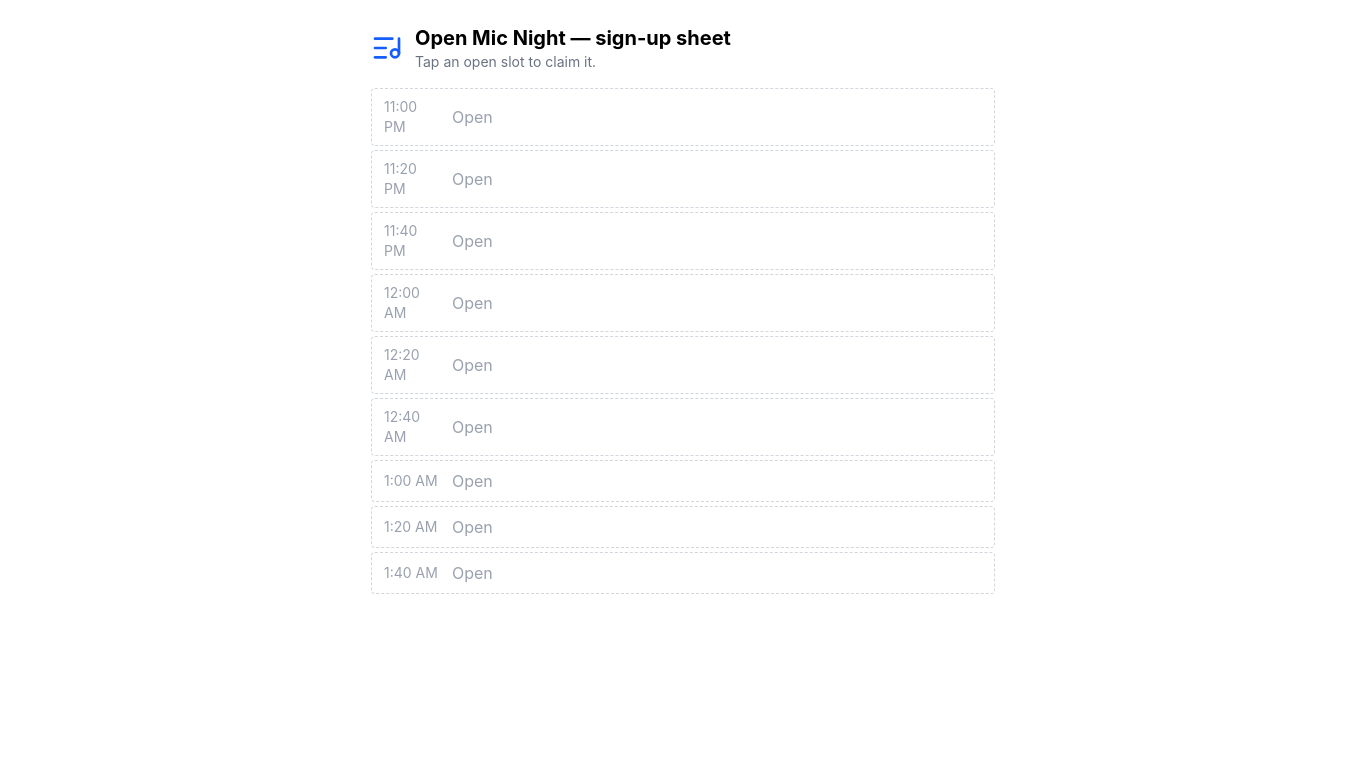
Test case: <SignupSheet /> › keeps the modal and its error visible after a refresh shows the slot as taken
Click the button with aria-label "Sign up for the" at (401,106), box [371,88,995,146]
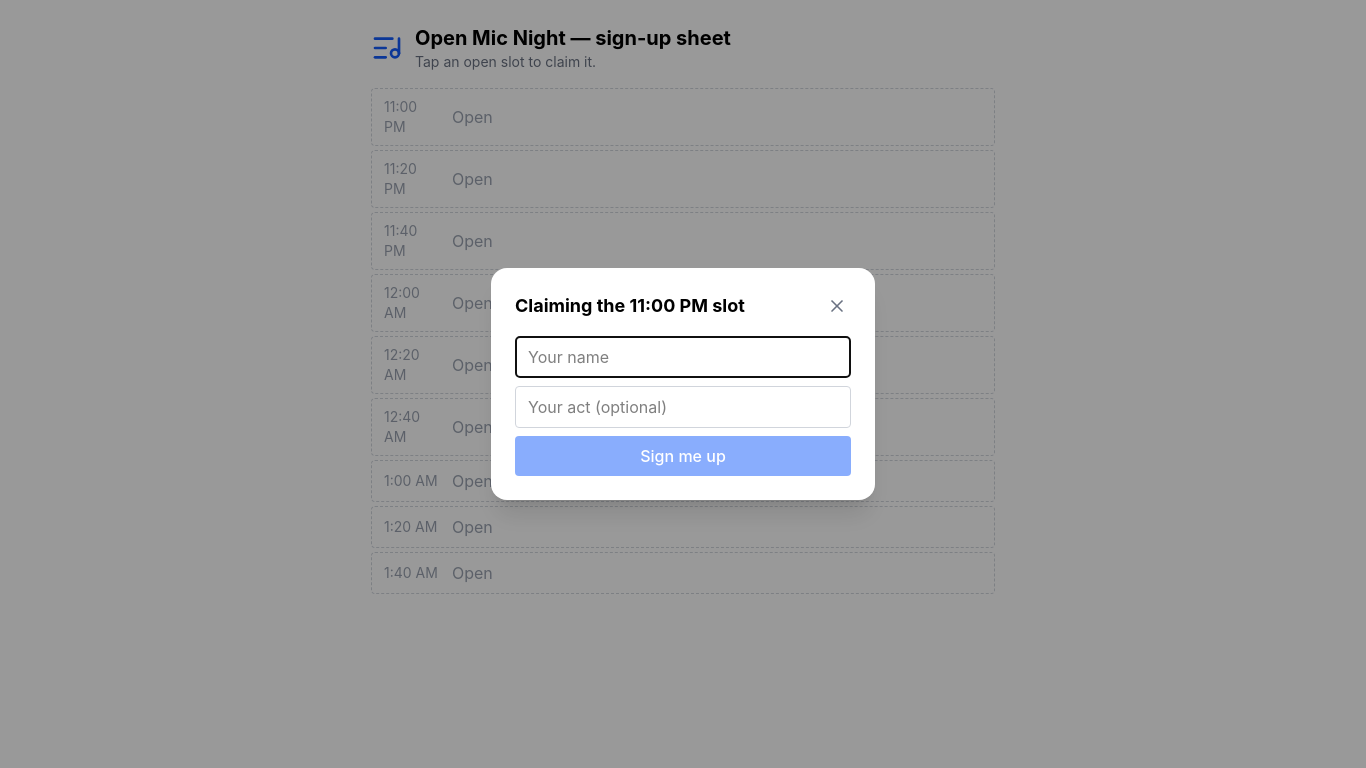
Type "Brandon" into the field labelled "Your name" at (683,357), box [515,336,851,378]
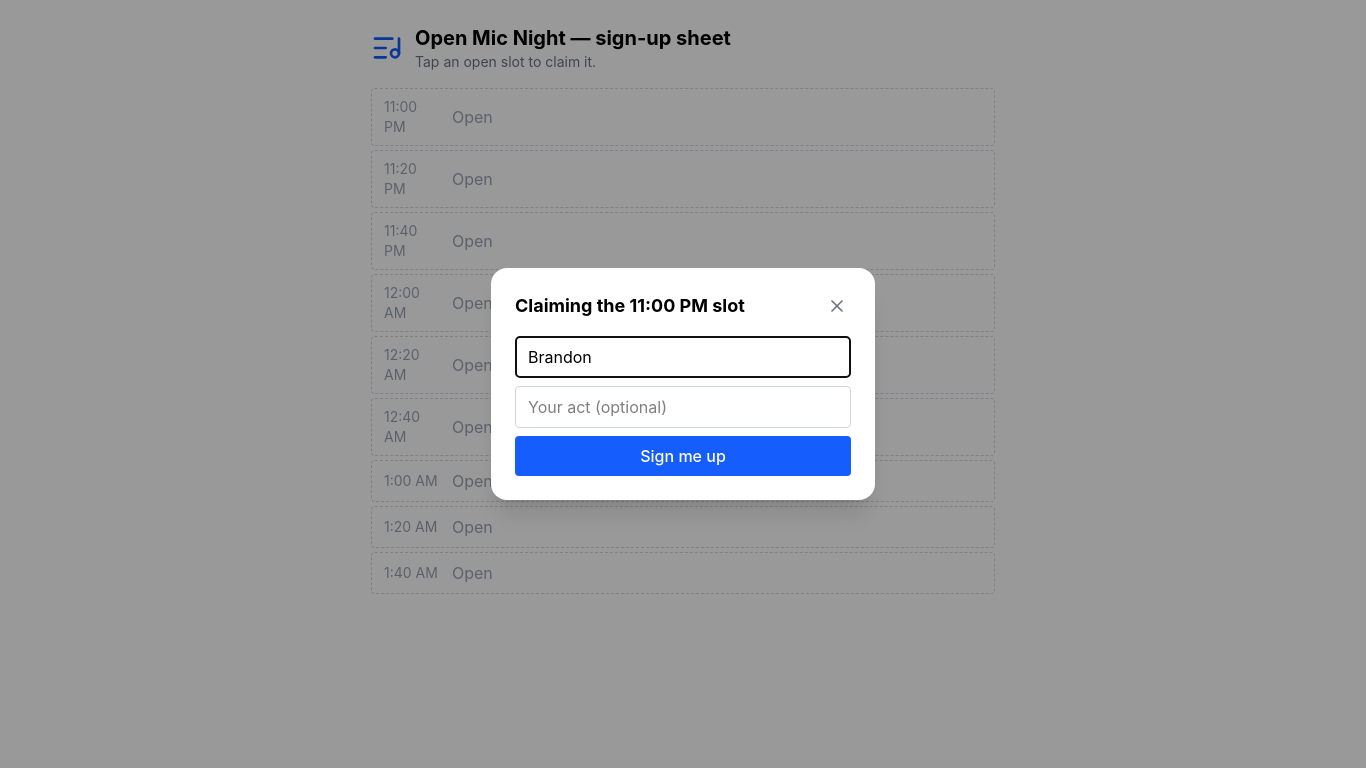
Click the button "Sign me up" at (683,456), box [515,436,851,476]
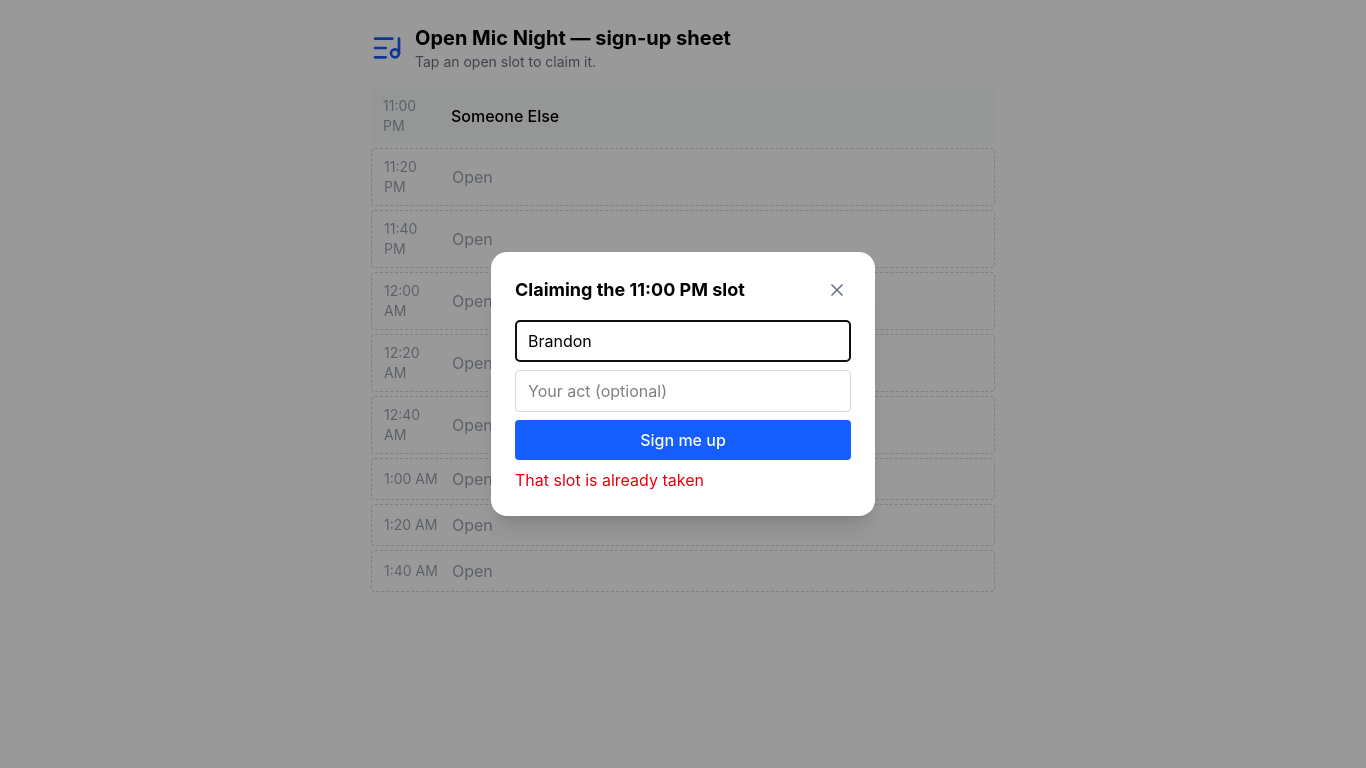
Check: the dialog is shown, box [491,252,875,516]
Check: the text "Someone Else" is shown, box [451,104,559,128]
Check: the text "That slot is already taken" is shown, box [515,470,704,490]
